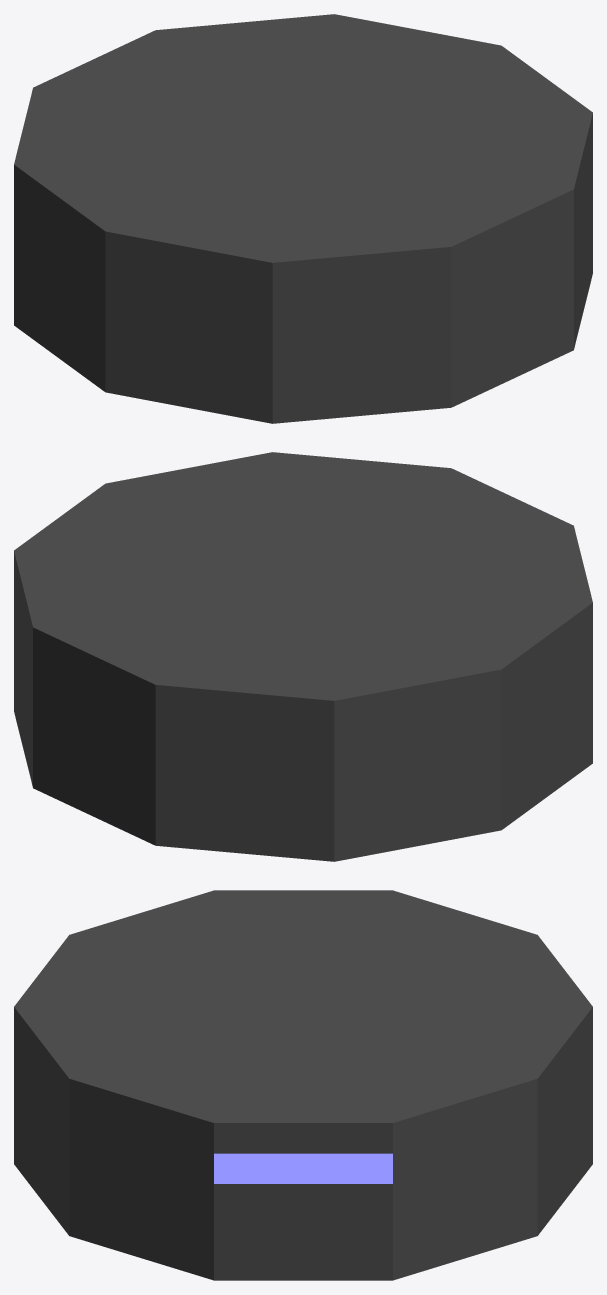
3 renders of one model, top to bottom at view 1: azimuth 30°, elevation 25°; view 2: azimuth 150°, elevation 25°; view 3: azimuth 270°, elevation 25°, orthographic. The views are drawn at different scales.
Parts seen in each view (by area): view 1: Cylinder; view 2: Cylinder; view 3: Cylinder.
Boxes of the visible parts, bbox=[...] form: Cylinder: bbox=[14, 14, 592, 423]; Cylinder: bbox=[14, 452, 592, 861]; Cylinder: bbox=[14, 890, 592, 1280].
Bounding box in the file's own units: 1.9 × 0.6 × 2.
